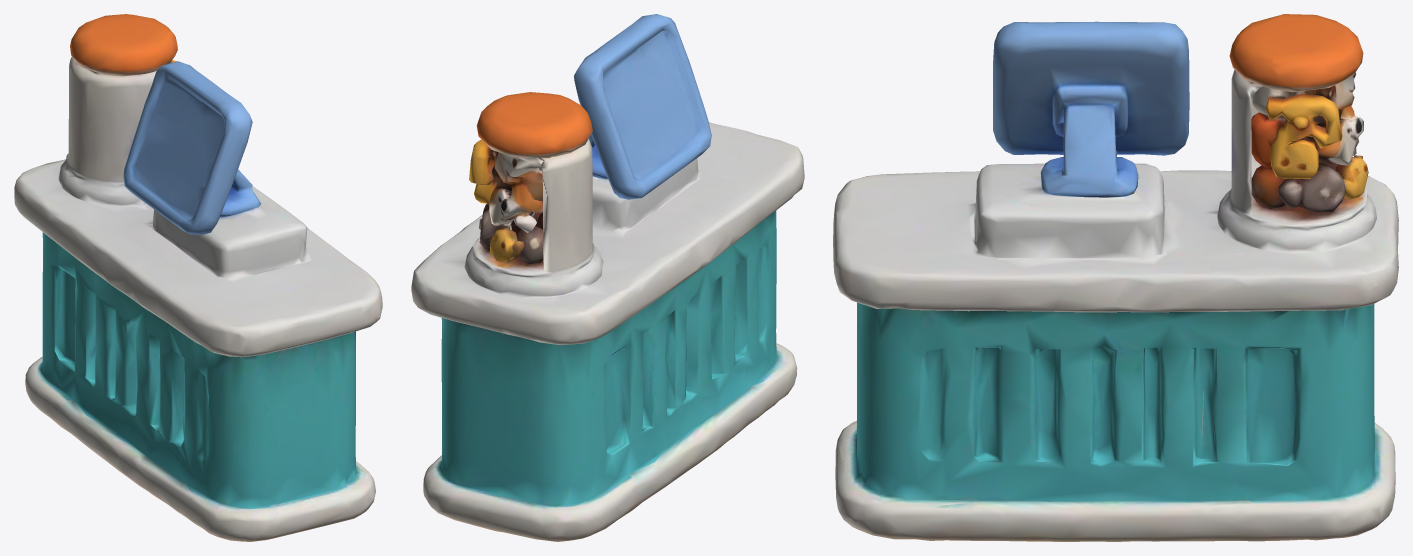
The model's file is petshop-counter.glb.
The picture shows the model from 3 angles, left to right: view 1: azimuth 30°, elevation 25°; view 2: azimuth 150°, elevation 25°; view 3: azimuth 270°, elevation 25°; orthographic projection. The views are drawn at different scales.
Parts seen in each view (by area): view 1: tripo_node_3540c80c-a5bd-4b12-b3ff-c5ff3d23afcc; view 2: tripo_node_3540c80c-a5bd-4b12-b3ff-c5ff3d23afcc; view 3: tripo_node_3540c80c-a5bd-4b12-b3ff-c5ff3d23afcc.
Boxes of the visible parts, bbox=[...] form: tripo_node_3540c80c-a5bd-4b12-b3ff-c5ff3d23afcc: bbox=[14, 14, 382, 541]; tripo_node_3540c80c-a5bd-4b12-b3ff-c5ff3d23afcc: bbox=[411, 14, 804, 541]; tripo_node_3540c80c-a5bd-4b12-b3ff-c5ff3d23afcc: bbox=[833, 14, 1398, 541].
Size of the model in its own units: 0.4693 by 0.9161 by 1.
Materials: 1 (1 with a texture image).
